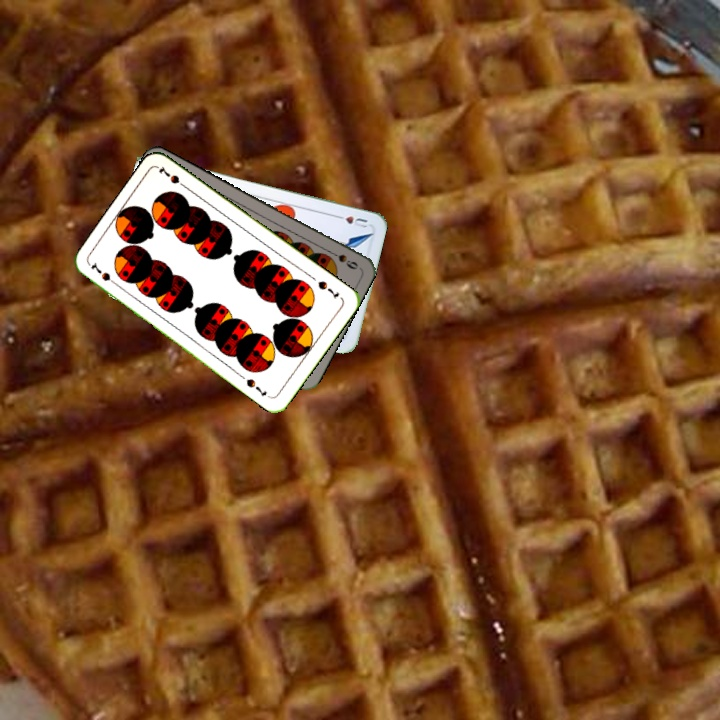HU: (331, 211, 370, 230)
S7: (87, 258, 121, 289), (314, 277, 342, 302)
S9: (323, 246, 361, 272)
